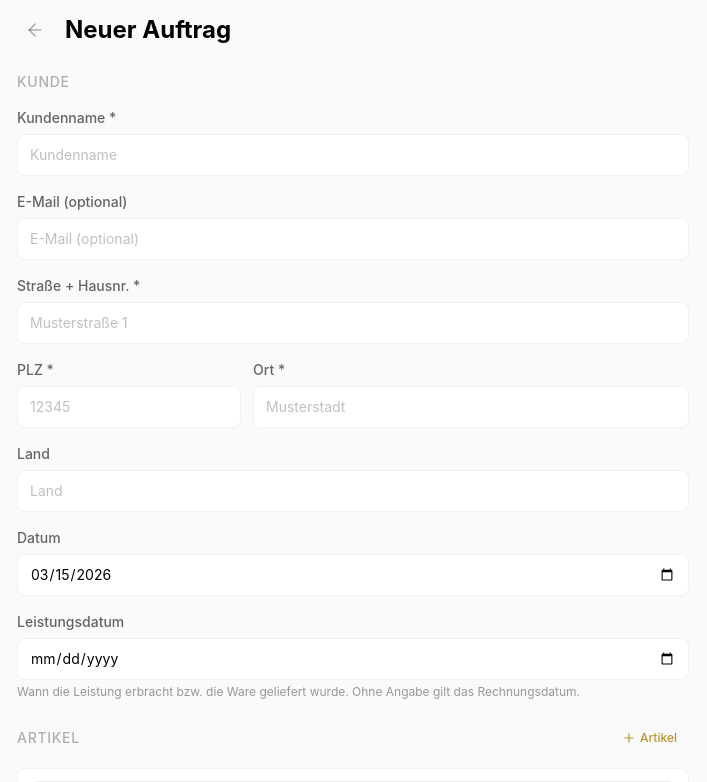
Test case: orders/new — Auftrag anlegen › fuellt die Anschrift aus dem Kundenstamm, sobald der Name passt
Expected: the heading "Neuer Auftrag" is shown, x1=65 y1=14 x2=231 y2=46
In the field with placeholder "Kundenname": (353, 155) x1=17 y1=134 x2=689 y2=176, type "Anna Beispiel"
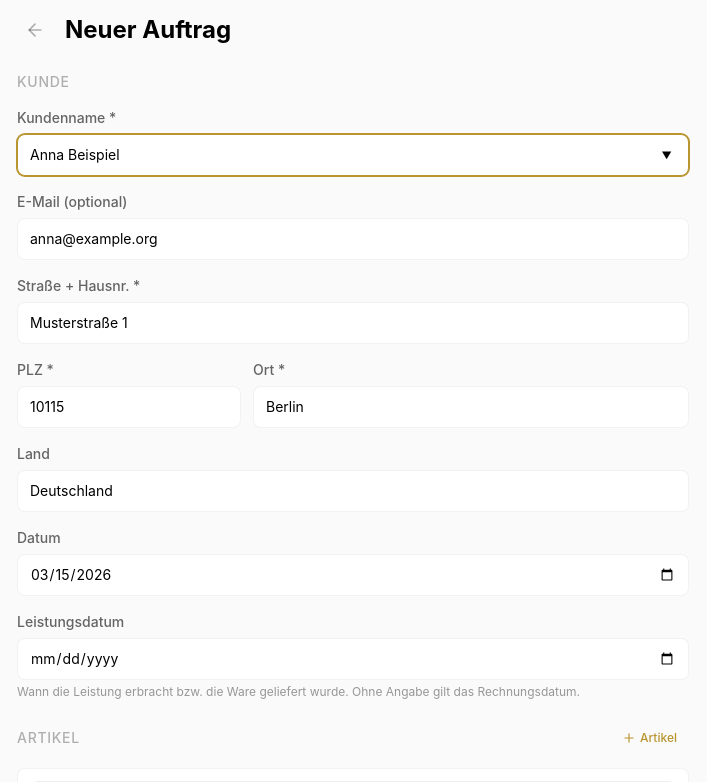
Now the field showing "anna@example.org" is shown, box x1=17 y1=218 x2=689 y2=260
Now the field showing "10115" is shown, box x1=17 y1=386 x2=241 y2=428
Now the field showing "Berlin" is shown, box x1=253 y1=386 x2=689 y2=428
